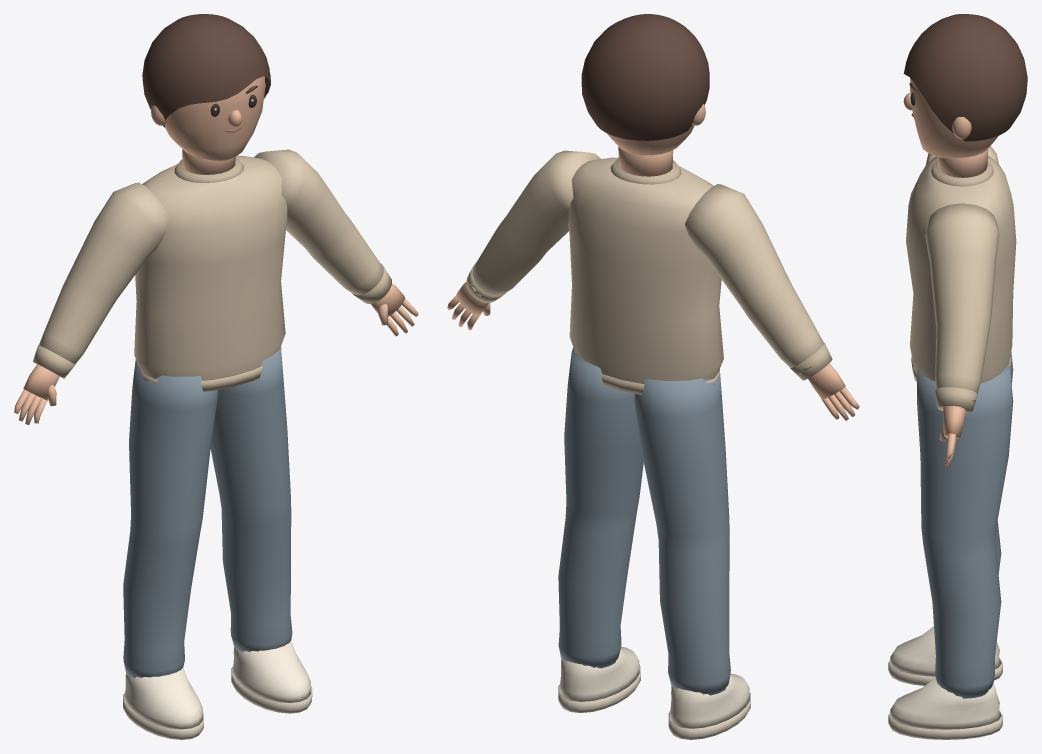
The model's file is CafeCustomer.fbx.
3 renders of one model, left to right at view 1: azimuth 30°, elevation 25°; view 2: azimuth 150°, elevation 25°; view 3: azimuth 270°, elevation 25°, orthographic. The views are drawn at different scales.
Visible parts, largest first — view 1: Pullover, Trouser leg, Trouser leg.001, Sleeve, Side swept crop, Sleeve.001, Face, Sneaker, Sneaker.001, Outsole.001, Outsole, Hem (+4 smaller); view 2: Pullover, Trouser leg, Trouser leg.001, Side swept crop, Sleeve, Sleeve.001, Sneaker, Sneaker.001, Neck, Face, Outsole.001, Outsole (+3 smaller); view 3: Trouser leg.001, Side swept crop, Sleeve.001, Pullover, Sneaker.001, Face, Sneaker, Outsole.001, Neck, Cuff.001, Collar, Palm.001 (+3 smaller).
Part boxes in pixels (x1,y1,x2,y2): Pullover: (134, 155, 287, 380); Trouser leg: (123, 359, 218, 678); Trouser leg.001: (210, 347, 292, 651); Sleeve: (39, 182, 170, 364); Side swept crop: (142, 14, 270, 127); Sleeve.001: (254, 149, 383, 295); Face: (165, 76, 265, 161); Sneaker: (124, 668, 202, 729); Sneaker.001: (232, 640, 310, 702); Outsole.001: (231, 667, 312, 713); Outsole: (123, 693, 203, 739); Hem: (139, 347, 281, 391); Pullover: (568, 157, 723, 383); Trouser leg: (634, 369, 730, 695); Trouser leg.001: (558, 347, 643, 668); Side swept crop: (581, 14, 709, 140); Sleeve: (685, 184, 823, 374); Sleeve.001: (470, 150, 600, 296); Sneaker: (669, 673, 749, 728); Sneaker.001: (559, 647, 639, 701); Neck: (618, 146, 673, 176); Face: (607, 125, 694, 155); Outsole.001: (558, 666, 640, 712); Outsole: (668, 693, 750, 739); Trouser leg.001: (917, 365, 1013, 698); Side swept crop: (903, 14, 1027, 141); Sleeve.001: (925, 203, 999, 403); Pullover: (906, 156, 1016, 383); Sneaker.001: (889, 677, 1001, 729); Face: (910, 78, 997, 158); Sneaker: (889, 626, 1001, 676); Outsole.001: (888, 711, 1002, 739); Neck: (938, 149, 988, 177); Cuff.001: (935, 387, 977, 413); Collar: (931, 160, 993, 186); Palm.001: (943, 406, 965, 438).
Bounding box in the file's own units: 105 × 169 × 31.59.
